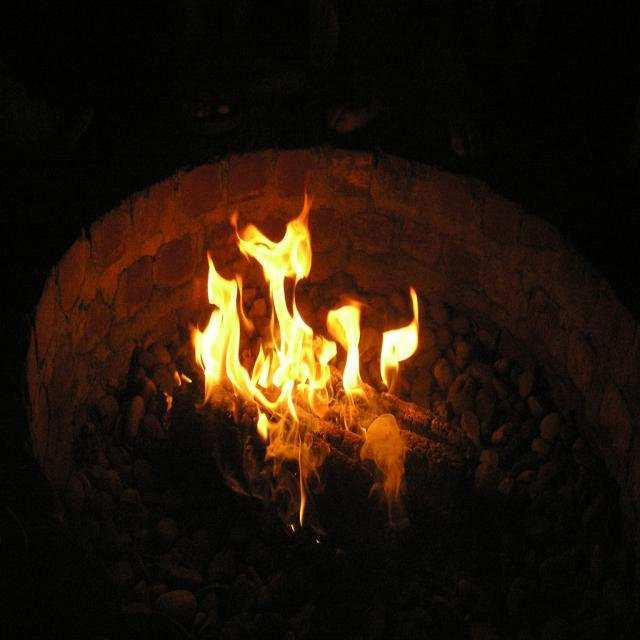Fire: (271, 240, 320, 396), (194, 273, 249, 394), (336, 314, 416, 388)
